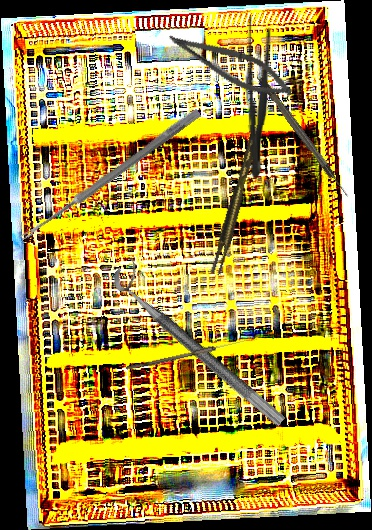Dressing Forceps: (242, 13, 273, 180)
Fixation Ring: (107, 255, 299, 429)
Hook Surgical: (257, 75, 351, 200)
Micro Scissor: (161, 25, 299, 106)
Surgical Spoon: (18, 106, 202, 245), (126, 337, 246, 373)
Tissue Forceps: (205, 126, 268, 276)
